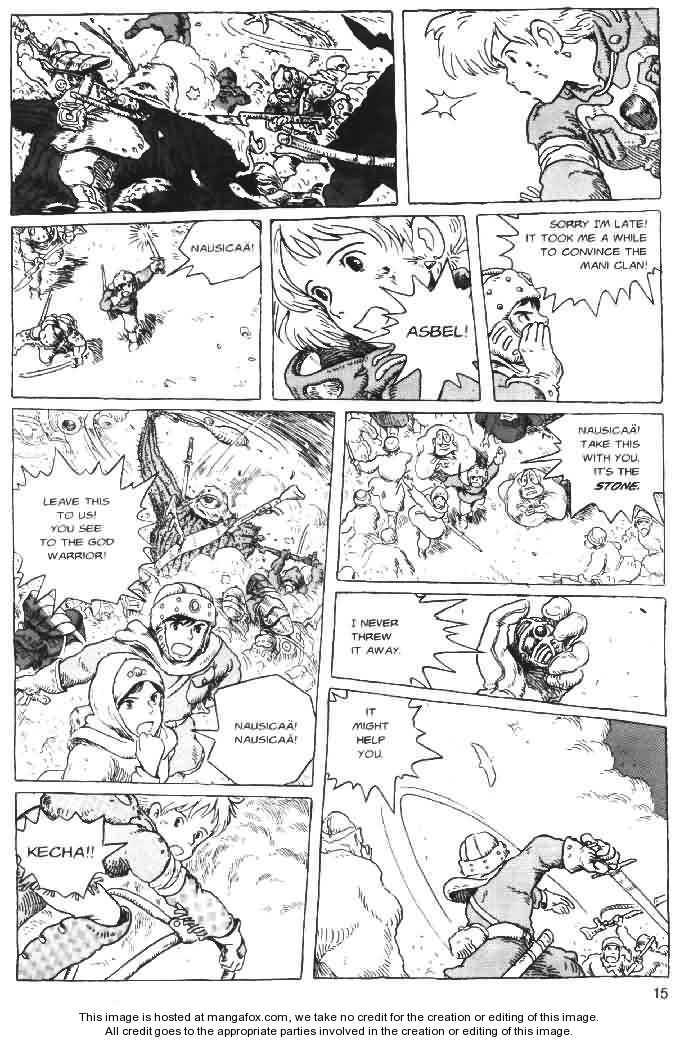Bubble: (15, 445, 161, 615), (496, 208, 664, 319), (360, 256, 481, 404), (518, 411, 666, 529), (324, 689, 445, 815), (333, 591, 488, 689), (205, 672, 317, 787), (13, 807, 130, 900), (178, 218, 264, 287)
